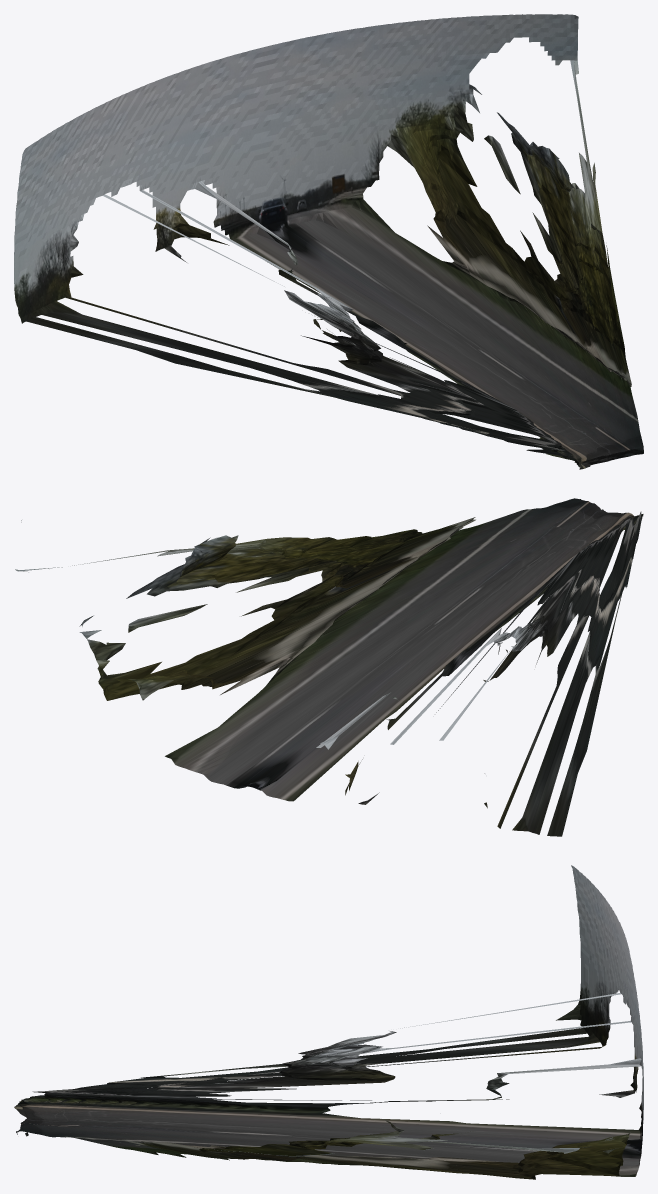
3 renders of one model, top to bottom at view 1: azimuth 30°, elevation 25°; view 2: azimuth 150°, elevation 25°; view 3: azimuth 270°, elevation 25°, orthographic. The views are drawn at different scales.
Parts seen in each view (by area): view 1: defaultobject; view 2: defaultobject; view 3: defaultobject.
Part boxes in pixels (<box>): defaultobject: <box>14,14,643,469</box>; defaultobject: <box>15,498,643,836</box>; defaultobject: <box>14,865,643,1179</box>.
Size of the model in its own units: 41.03 by 13.29 by 44.69.
1 material, 1 textured.
